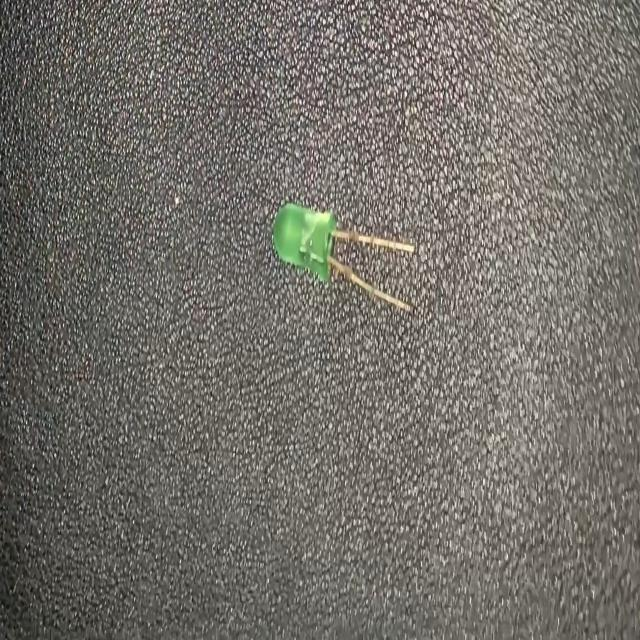LED: (271, 200, 417, 318)
